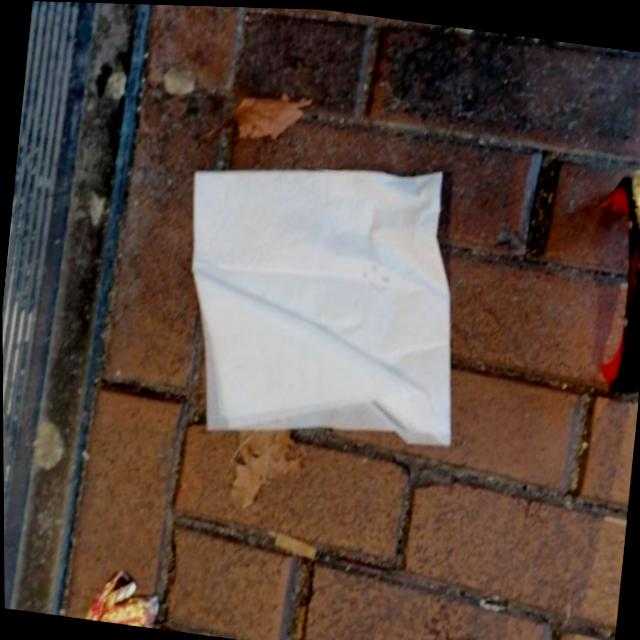Paper: (164, 136, 481, 464)
